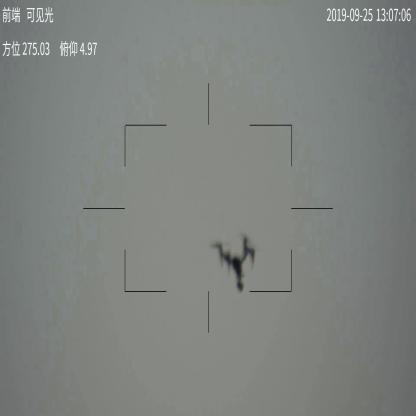uav: (211, 231, 259, 292)
